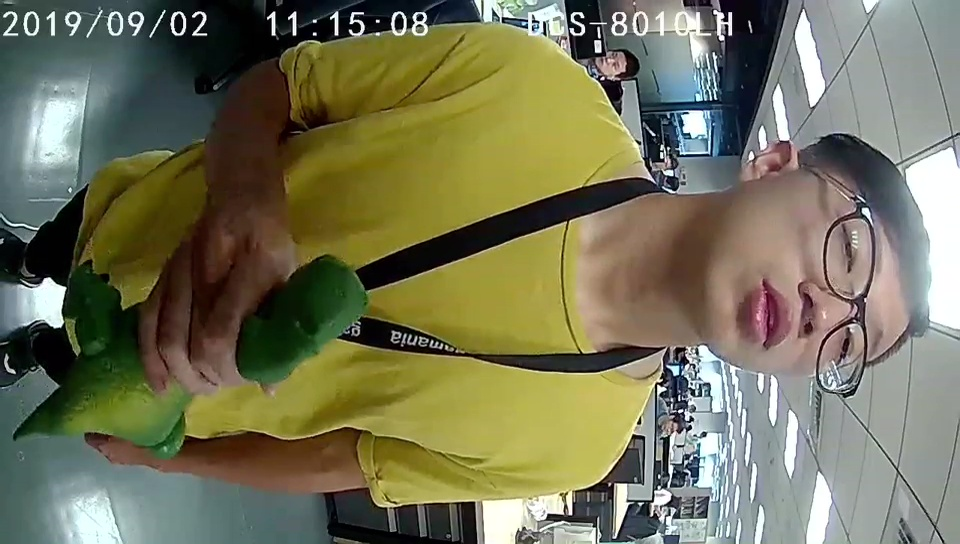rex: (67, 255, 369, 458)
